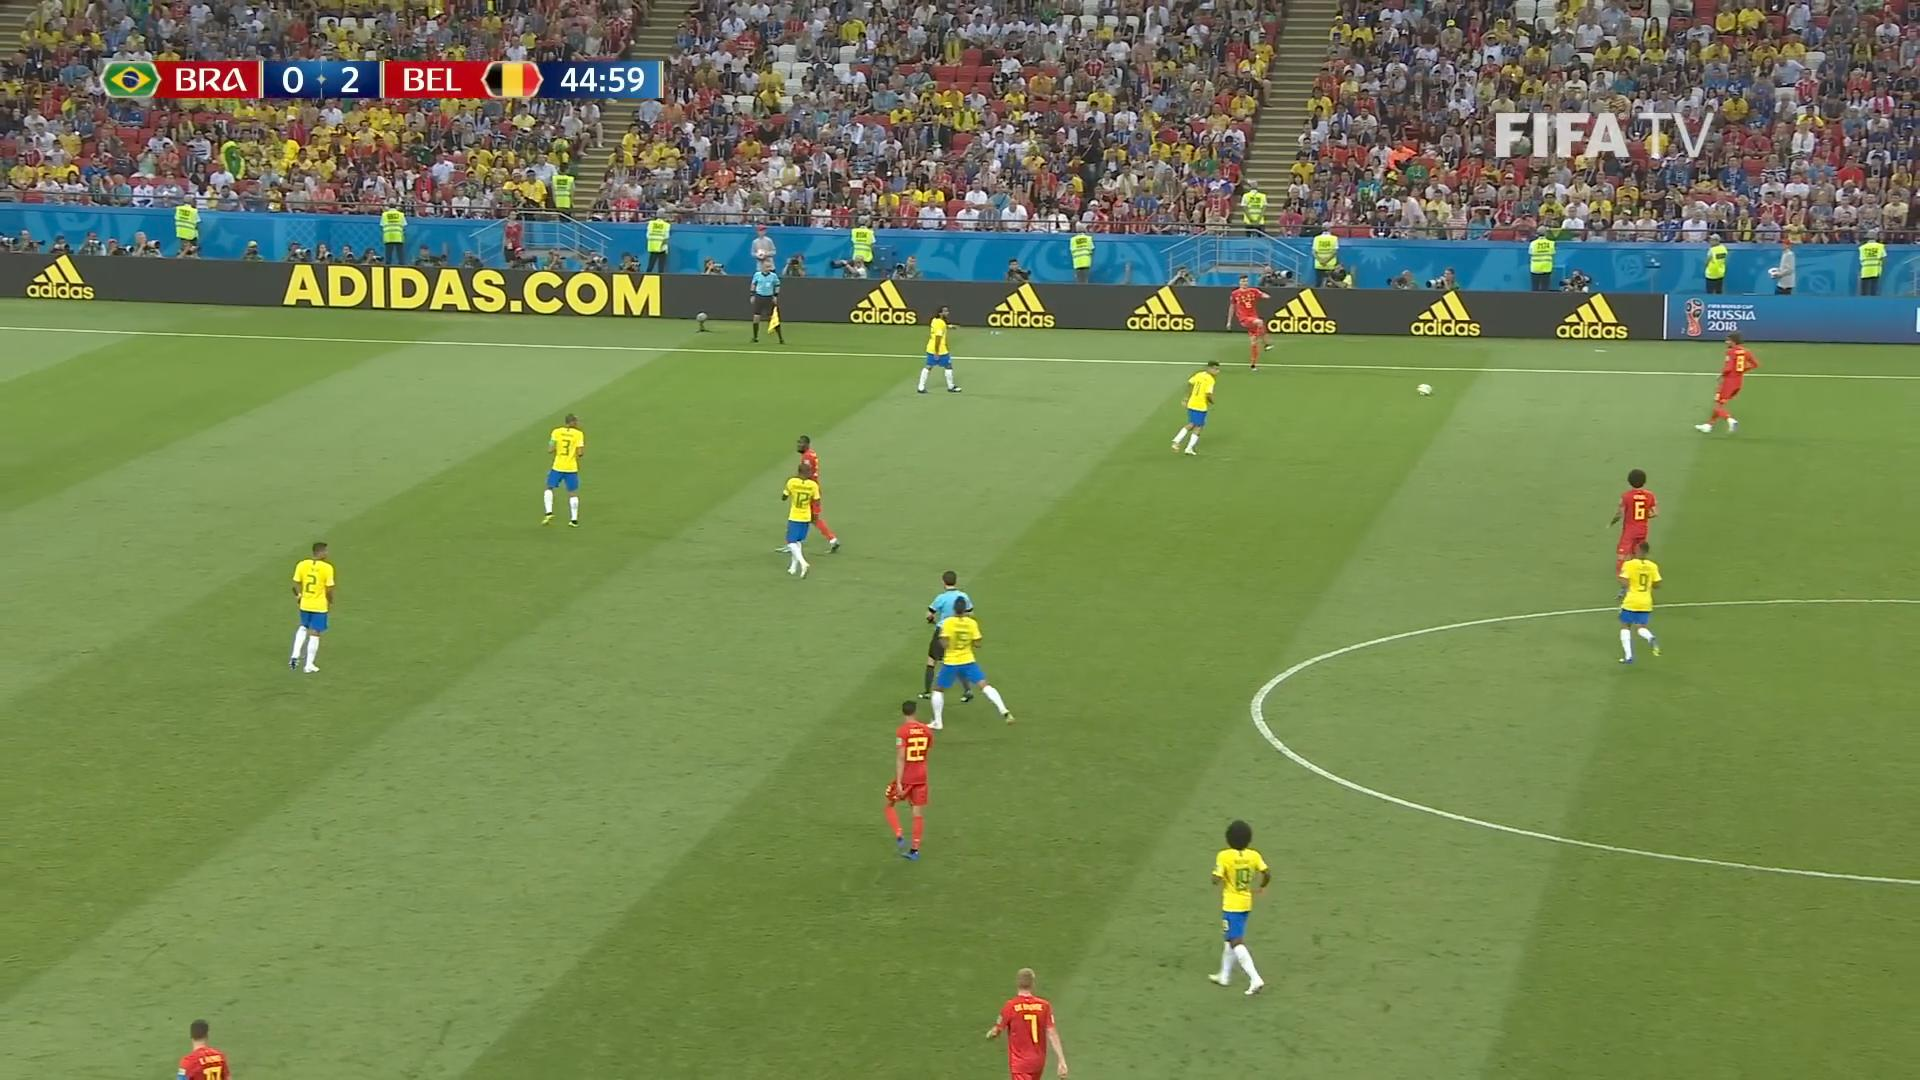ball: (1419, 384, 1431, 396)
player: (923, 595, 1015, 730), (1206, 818, 1271, 996), (286, 540, 335, 673), (1614, 539, 1662, 663), (539, 412, 585, 527), (778, 462, 821, 578), (1169, 359, 1220, 455), (915, 304, 962, 393)
referee: (920, 569, 977, 702), (746, 254, 783, 344)
